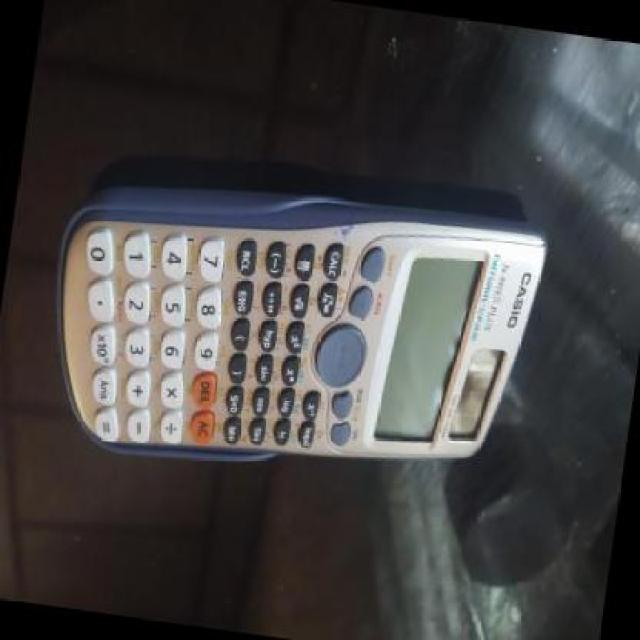Calculator: (24, 148, 553, 512)
